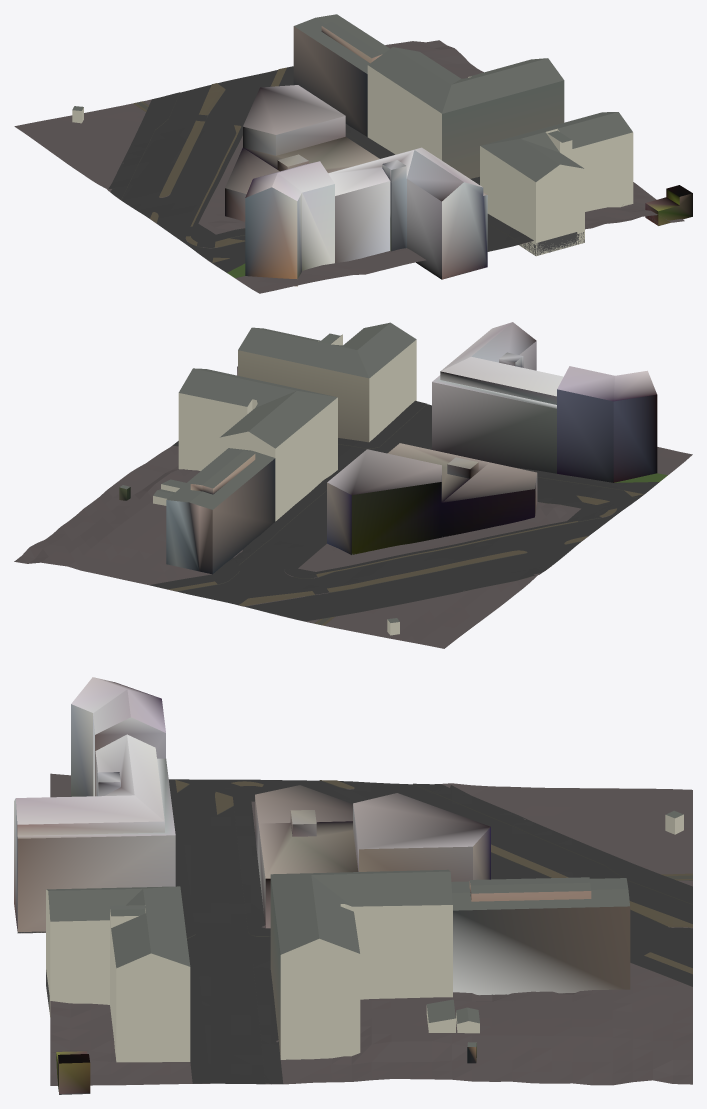
3 views of the same model, one above another, from view 1: azimuth 30°, elevation 25°; view 2: azimuth 150°, elevation 25°; view 3: azimuth 270°, elevation 25° (orthographic). The views are drawn at different scales.
Visible parts, largest first — view 1: c_m03_m17; view 2: c_m03_m17; view 3: c_m03_m17.
Part boxes in pixels (<box>): c_m03_m17: <box>14,14,692,293</box>; c_m03_m17: <box>14,322,692,648</box>; c_m03_m17: <box>14,677,692,1094</box>.
Bounding box in the file's own units: 131 × 34.56 × 135.
